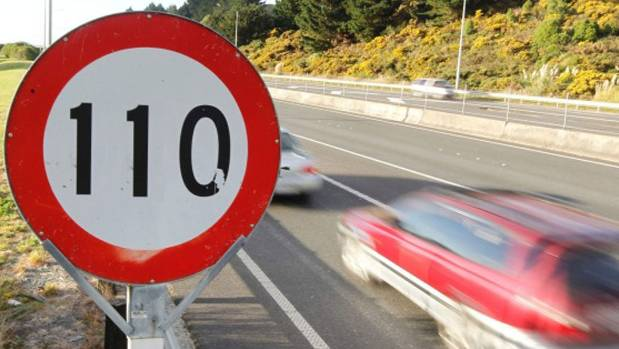Speed_limit_110km: (6, 10, 282, 286)
